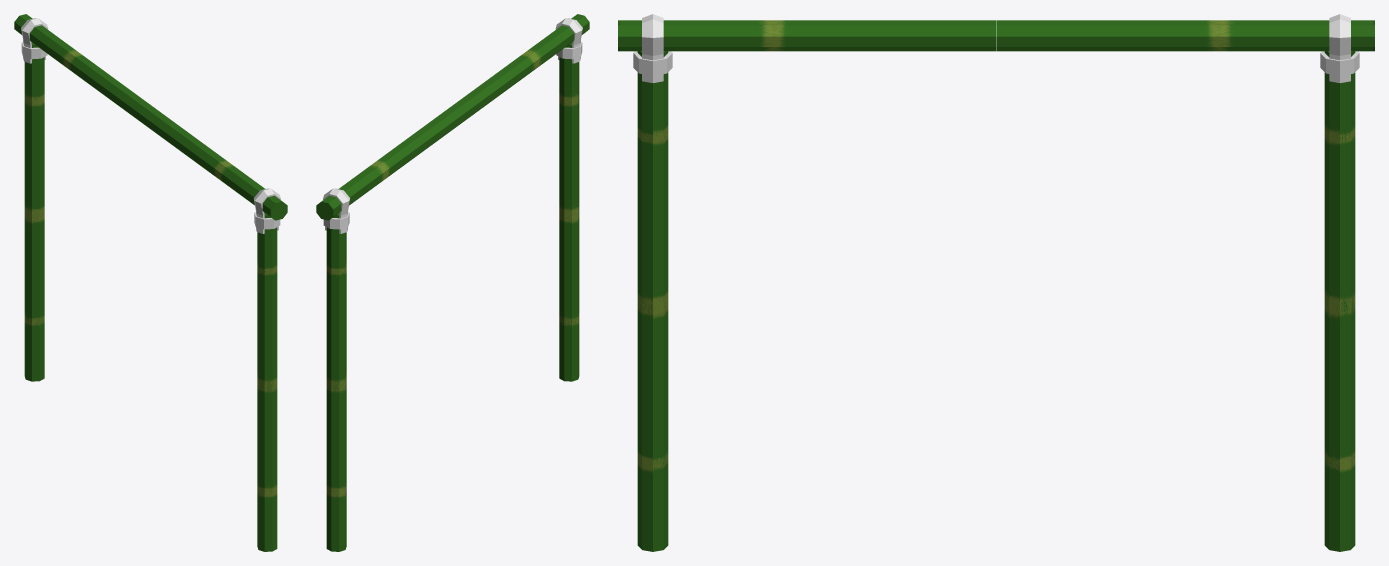
The model's file is gawang.fbx.
The picture shows the model from 3 angles, left to right: view 1: azimuth 30°, elevation 25°; view 2: azimuth 150°, elevation 25°; view 3: azimuth 270°, elevation 25°; orthographic projection. The views are drawn at different scales.
Visible parts, largest first — view 1: Cylinder, Cylinder.001; view 2: Cylinder, Cylinder.001; view 3: Cylinder, Cylinder.001.
Boxes of the visible parts, left/top/right/bottom form: Cylinder: left=14, top=14, right=287, bottom=551; Cylinder.001: left=21, top=18, right=280, bottom=233; Cylinder: left=316, top=14, right=589, bottom=551; Cylinder.001: left=323, top=18, right=582, bottom=233; Cylinder: left=618, top=20, right=1374, bottom=551; Cylinder.001: left=633, top=14, right=1359, bottom=82.
Bounding box in the file's own units: 62.27 × 850 × 1102.
